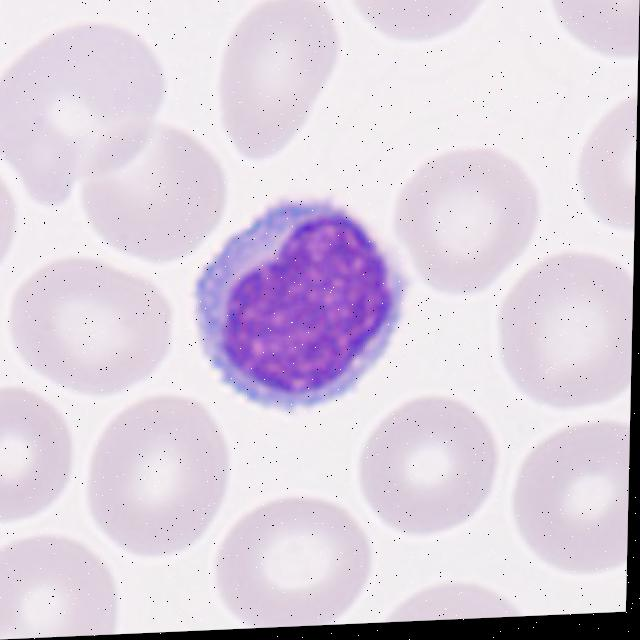lymphocyte: (189, 194, 414, 423)
rbc: (0, 10, 179, 211), (79, 387, 238, 566), (0, 244, 166, 404), (483, 250, 634, 418), (395, 134, 543, 303), (203, 0, 350, 169), (75, 120, 231, 270), (209, 492, 376, 630), (356, 390, 495, 551), (504, 417, 630, 583), (562, 78, 638, 245), (0, 534, 118, 640), (0, 385, 77, 529), (329, 0, 501, 53), (382, 574, 535, 622), (539, 0, 639, 64), (0, 169, 39, 294), (0, 0, 16, 68), (248, 167, 250, 168)
